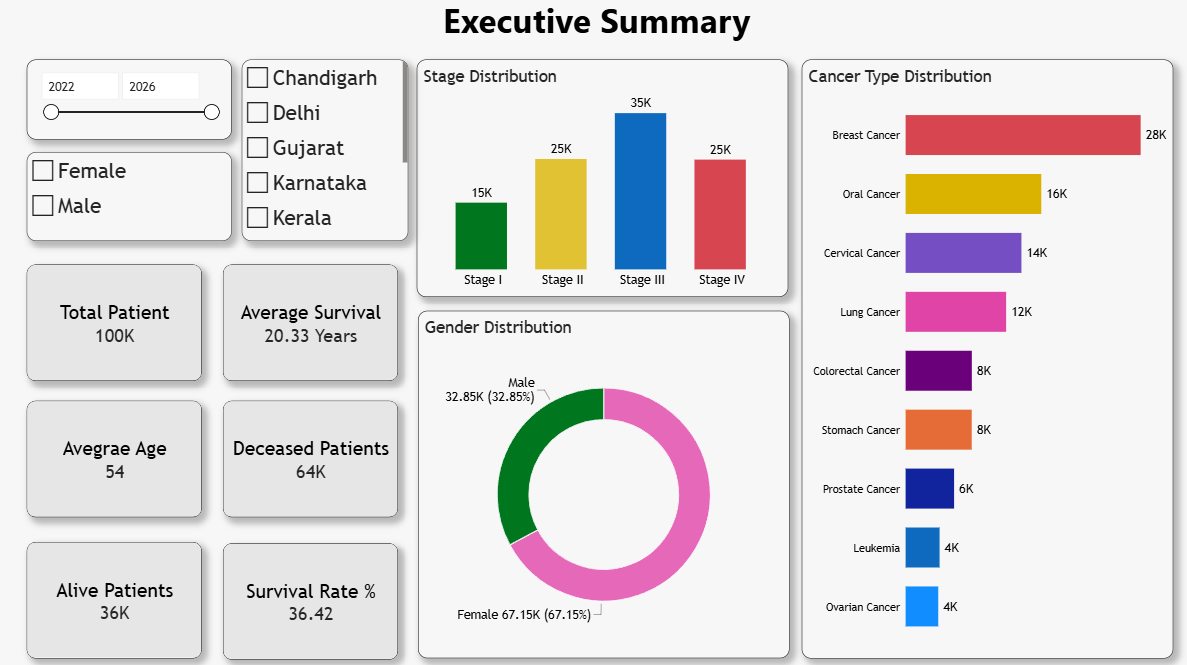

The page's visual inventory and layout, read from the dashboard file:
{"tool":"powerbi","page":{"name":"Executive Summary","canvas":[1920,1080],"ordinal":0},"visuals":[{"type":"cardVisual","fields":{"Data":["cancer_patients.Avegrae Age"]},"box":[45.2,646.8,280,186],"z":0},{"type":"cardVisual","fields":{"Data":["cancer_patients.Alive Patients"]},"box":[45.2,872.8,280,186],"z":1000},{"type":"cardVisual","fields":{"Data":["cancer_patients.Deceased Patients"]},"box":[359.2,646.8,280,186],"z":2000},{"type":"cardVisual","fields":{"Data":["cancer_patients.Survival Rate %"]},"box":[359.2,874.8,280,186],"z":3000},{"type":"clusteredBarChart","title":"Cancer Type Distribution","fields":{"Category":["cancer_patients.Cancer_Type"],"Y":["CountNonNull(cancer_patients.Patient_ID)"]},"box":[1286,100,594,958],"z":4000},{"type":"donutChart","title":"Gender Distribution","fields":{"Category":["cancer_patients.Gender"],"Y":["CountNonNull(cancer_patients.Patient_ID)"]},"box":[672,502,594,556],"z":5000},{"type":"columnChart","title":"Stage Distribution","fields":{"Y":["CountNonNull(cancer_patients.Patient_ID)"],"Category":["cancer_patients.Stage"]},"box":[670,100,594,380],"z":6000},{"type":"textbox","box":[712,0,512,94],"z":7000},{"type":"slicer","fields":{"Values":["cancer_patients.Gender"]},"box":[46,248,328,142],"z":8000},{"type":"slicer","fields":{"Values":["cancer_patients.Diagnosis_Year"]},"box":[46,100,328,128],"z":9000},{"type":"slicer","fields":{"Values":["cancer_patients.State"]},"box":[390,100,266,290],"z":10000},{"type":"cardVisual","fields":{"Data":["cancer_patients.Total Patient"]},"box":[46,428,280,186],"z":11000},{"type":"cardVisual","fields":{"Data":["cancer_patients.Average Survival"]},"box":[360,428,280,186],"z":12000}]}

Visuals, with their boxes in screenshot pixels (x1, y1, x2, y2), scaled from the page's 1920x1080 canvas onto the 1187x665 screenshot:
cardVisual - cancer_patients.Avegrae Age: bbox=[28, 398, 201, 513]
cardVisual - cancer_patients.Alive Patients: bbox=[28, 537, 201, 652]
cardVisual - cancer_patients.Deceased Patients: bbox=[222, 398, 395, 513]
cardVisual - cancer_patients.Survival Rate %: bbox=[222, 539, 395, 653]
"Cancer Type Distribution" clusteredBarChart: bbox=[795, 62, 1162, 651]
"Gender Distribution" donutChart: bbox=[415, 309, 783, 651]
"Stage Distribution" columnChart: bbox=[414, 62, 781, 296]
textbox: bbox=[440, 0, 757, 58]
slicer - cancer_patients.Gender: bbox=[28, 153, 231, 240]
slicer - cancer_patients.Diagnosis_Year: bbox=[28, 62, 231, 140]
slicer - cancer_patients.State: bbox=[241, 62, 406, 240]
cardVisual - cancer_patients.Total Patient: bbox=[28, 264, 202, 378]
cardVisual - cancer_patients.Average Survival: bbox=[223, 264, 396, 378]
